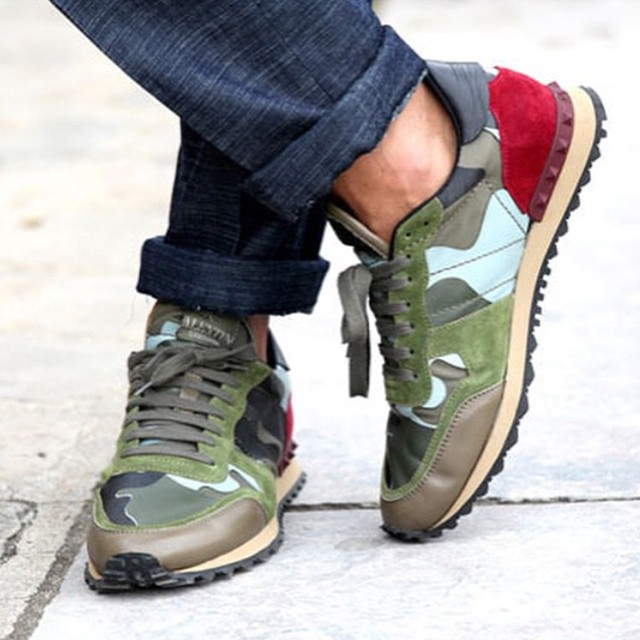sneaker: (318, 48, 624, 563), (57, 273, 324, 612)
